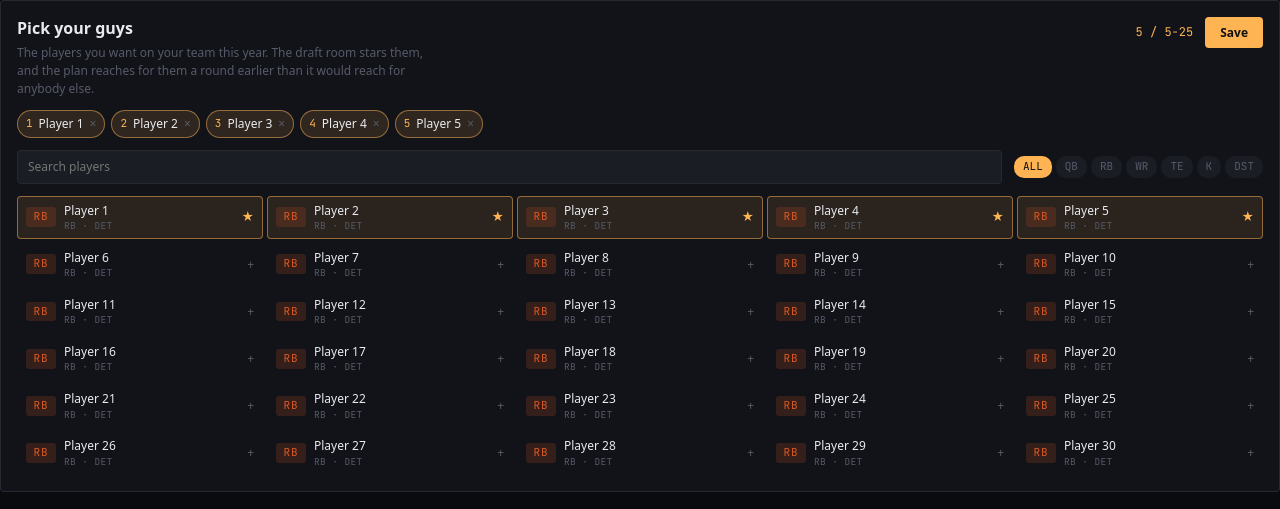
it: a chosen player can be dropped again from the list at the top
Expected: the button "Save" is enabled, [1205,17,1263,48]
Click the button with aria-label "Remove Player 1" at (61, 124), box [17,110,105,138]
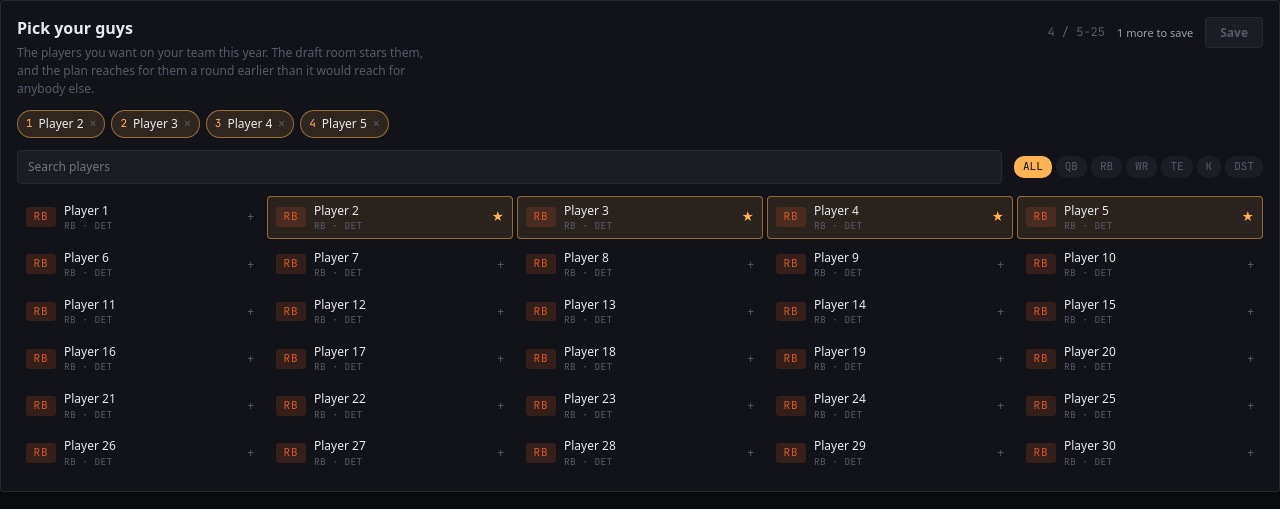
Expected: the text "4 / 5-25" is shown, [1047,24,1105,41]
Expected: the button "Save" is disabled, [1205,17,1263,48]
